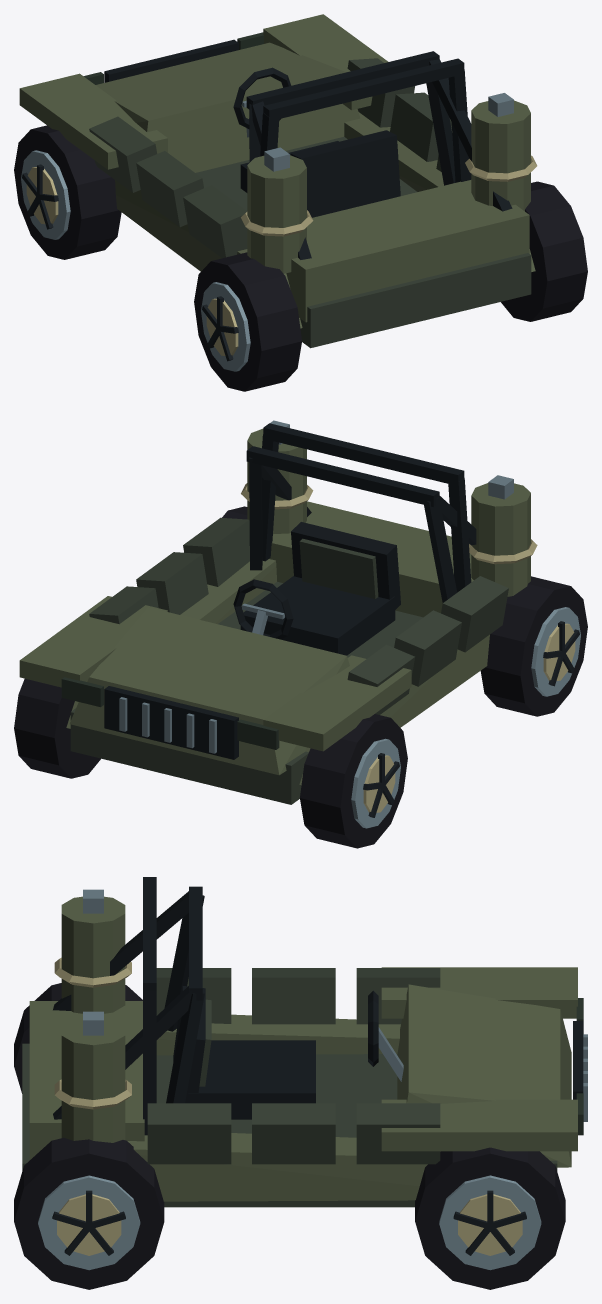
Rendered from kart.glb.
3 renders of one model, top to bottom at view 1: azimuth 30°, elevation 25°; view 2: azimuth 150°, elevation 25°; view 3: azimuth 270°, elevation 25°, orthographic. The views are drawn at different scales.
Visible parts, largest first — view 1: identity-jeep-jeep-offroad-frame, identity-jeep-motif-tanks, identity-jeep-motif-armor, wheel-rear-left, wheel-front-left, identity-jeep-driver-cockpit, wheel-rear-right, identity-jeep-motif-rollbar; view 2: identity-jeep-jeep-offroad-frame, identity-jeep-motif-armor, identity-jeep-driver-cockpit, wheel-rear-left, wheel-front-left, identity-jeep-motif-tanks, identity-jeep-motif-rollbar, wheel-front-right; view 3: identity-jeep-jeep-offroad-frame, identity-jeep-motif-armor, wheel-rear-right, wheel-front-right, identity-jeep-motif-tanks, identity-jeep-driver-cockpit, identity-jeep-motif-rollbar, wheel-rear-left.
Boxes of the visible parts, x1=… form: identity-jeep-jeep-offroad-frame: x1=19, y1=14, x2=535, y2=348; identity-jeep-motif-tanks: x1=241, y1=93, x2=537, y2=273; identity-jeep-motif-armor: x1=89, y1=58, x2=452, y2=258; wheel-rear-left: x1=194, y1=252, x2=301, y2=391; wheel-front-left: x1=14, y1=125, x2=121, y2=259; identity-jeep-driver-cockpit: x1=233, y1=67, x2=400, y2=217; wheel-rear-right: x1=501, y1=181, x2=587, y2=321; identity-jeep-motif-rollbar: x1=260, y1=58, x2=471, y2=182; identity-jeep-jeep-offroad-frame: x1=19, y1=446, x2=489, y2=804; identity-jeep-motif-armor: x1=89, y1=517, x2=508, y2=714; identity-jeep-driver-cockpit: x1=233, y1=522, x2=400, y2=655; wheel-rear-left: x1=480, y1=576, x2=587, y2=716; wheel-front-left: x1=300, y1=714, x2=407, y2=848; identity-jeep-motif-tanks: x1=241, y1=420, x2=537, y2=596; identity-jeep-motif-rollbar: x1=262, y1=423, x2=471, y2=592; wheel-front-right: x1=14, y1=678, x2=100, y2=778; identity-jeep-jeep-offroad-frame: x1=22, y1=886, x2=587, y2=1207; identity-jeep-motif-armor: x1=147, y1=968, x2=440, y2=1164; wheel-rear-right: x1=14, y1=1137, x2=164, y2=1289; wheel-front-right: x1=415, y1=1147, x2=565, y2=1289; identity-jeep-motif-tanks: x1=54, y1=889, x2=131, y2=1142; identity-jeep-driver-cockpit: x1=173, y1=986, x2=403, y2=1119; identity-jeep-motif-rollbar: x1=143, y1=877, x2=156, y2=1135; wheel-rear-left: x1=14, y1=983, x2=142, y2=1093.
Bounding box in the file's own units: 2.13 × 1.43 × 2.75.
